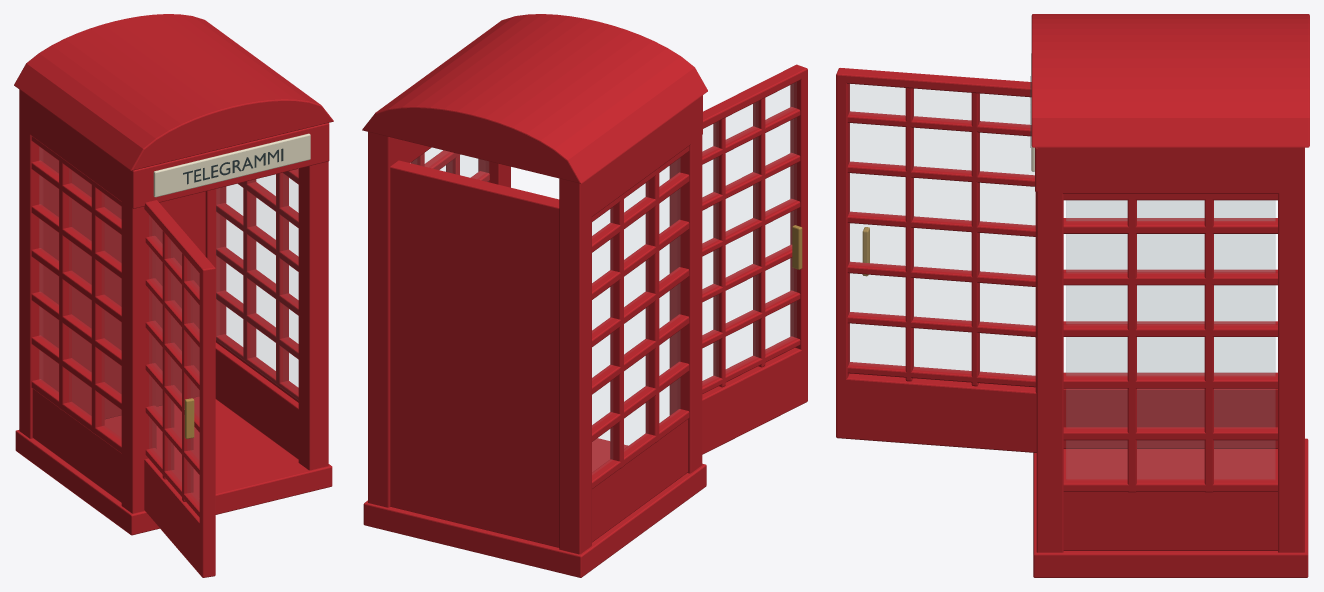
The model's file is contact-booth-P1FIBltY.glb.
3 renders of one model, left to right at view 1: azimuth 30°, elevation 25°; view 2: azimuth 150°, elevation 25°; view 3: azimuth 270°, elevation 25°, orthographic. The views are drawn at different scales.
Visible parts, largest first — view 1: Review_Roof, Review_Base, Review_BackPanel, Review_SideGlass.001, Review_Corner.002, Review_Corner, Review_SideGlass, Review_Corner.001, Review_DoorRight, Review_SidePlinth.001, Review_SidePlinth, Review_DoorGlass (+33 smaller); view 2: Review_BackPanel, Review_Roof, Review_DoorGlass, Review_Corner.001, Review_SideGlass, Review_Base, Review_Corner, Review_Corner.003, Review_DoorBottom, Booth_SideHeader, Review_SidePlinth, Review_DoorRight (+21 smaller); view 3: Review_SideGlass.001, Review_DoorGlass, Review_Roof, Review_SideGlass, Review_Base, Review_DoorBottom, Review_SidePlinth.001, Booth_SideHeader.001, Review_Corner.002, Review_Corner.003, Review_SidePlinth, Review_DoorRight (+20 smaller).
Boxes of the visible parts, box(x1,y1,x2,y2) form: Review_Roof: box(14, 14, 333, 170); Review_Base: box(15, 396, 332, 535); Review_BackPanel: box(49, 154, 205, 419); Review_SideGlass.001: box(217, 169, 297, 392); Review_Corner.002: box(298, 161, 328, 470); Review_Corner: box(121, 202, 151, 513); Review_SideGlass: box(40, 148, 120, 436); Review_Corner.001: box(19, 103, 49, 438); Review_DoorRight: box(199, 264, 215, 577); Review_SidePlinth.001: box(215, 342, 298, 459); Review_SidePlinth: box(32, 389, 121, 502); Review_DoorGlass: box(152, 219, 198, 501); Review_BackPanel: box(390, 160, 559, 547); Review_Roof: box(362, 14, 707, 183); Review_DoorGlass: box(703, 84, 793, 382); Review_Corner.001: box(559, 191, 591, 554); Review_SideGlass: box(592, 159, 679, 471); Review_Base: box(363, 438, 706, 577); Review_Corner: box(669, 117, 702, 473); Review_Corner.003: box(368, 145, 400, 507); Review_DoorBottom: box(702, 347, 807, 454); Booth_SideHeader: box(559, 96, 702, 224); Review_SidePlinth: box(592, 419, 687, 542); Review_DoorRight: box(790, 64, 807, 404); Review_SideGlass.001: box(1066, 201, 1274, 478); Review_DoorGlass: box(849, 84, 1034, 376); Review_Roof: box(1031, 14, 1309, 147); Review_SideGlass: box(1066, 201, 1274, 374); Review_Base: box(1033, 438, 1308, 577); Review_DoorBottom: box(836, 373, 1036, 452); Review_SidePlinth.001: box(1063, 492, 1277, 550); Booth_SideHeader.001: box(1037, 147, 1304, 193); Review_Corner.002: box(1036, 165, 1063, 552); Review_Corner.003: box(1278, 165, 1304, 552); Review_SidePlinth: box(1063, 388, 1277, 448); Review_DoorRight: box(836, 68, 849, 437).
Size of the model in its own units: 1.78 by 3.15 by 2.83.
